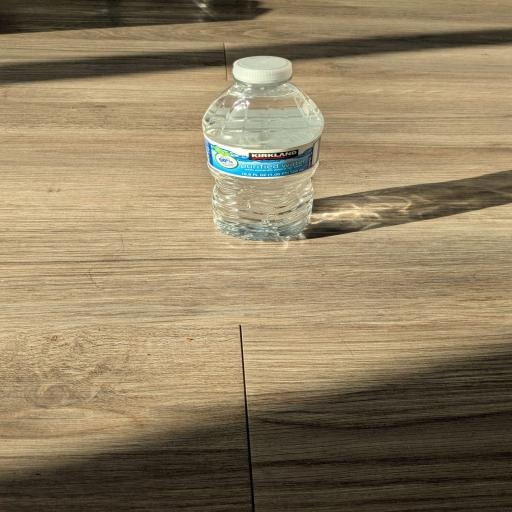waterbottle: (203, 56, 323, 241)
